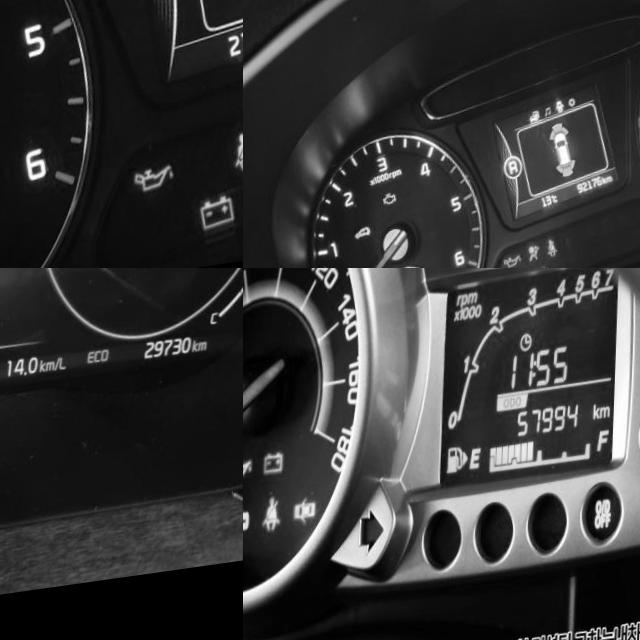Doors: (295, 503, 320, 534)
